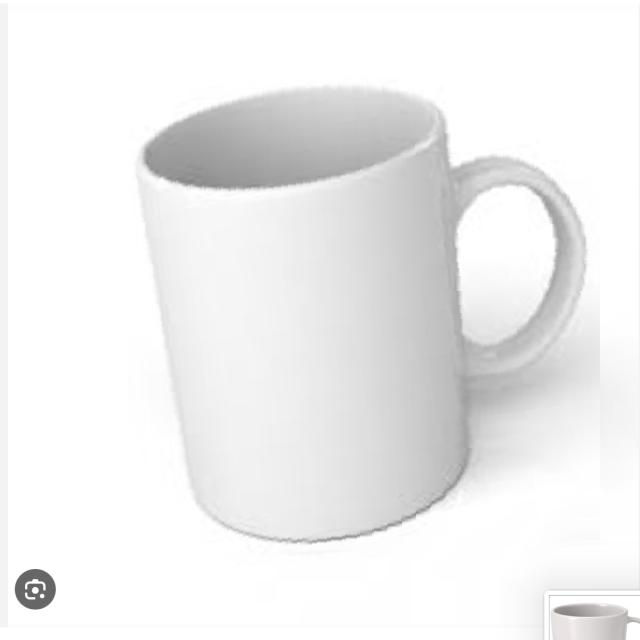recyclable: (119, 76, 600, 570)
